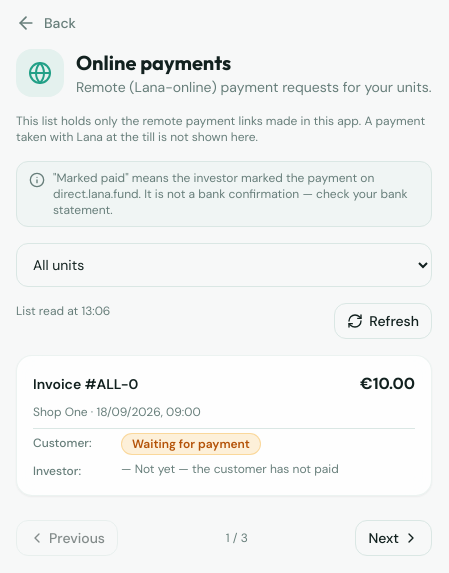
Test: changing the selection › changing the unit starts again at the first page
expect the text "Invoice #ALL-0" is shown: met, box [33,374,138,394]
Click the button "Next" at {"x": 394, "y": 538}, box [356,520,432,556]
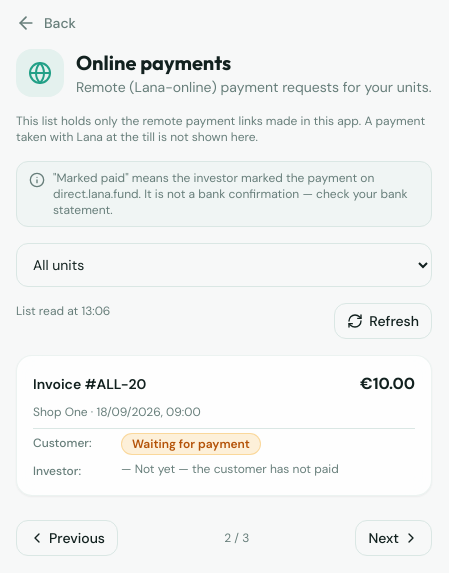
expect the text "Invoice #ALL-20" is shown: met, box [33,374,146,394]
Select "Shop Two" in the dropdown at {"x": 224, "y": 265}, box [16,243,432,287]
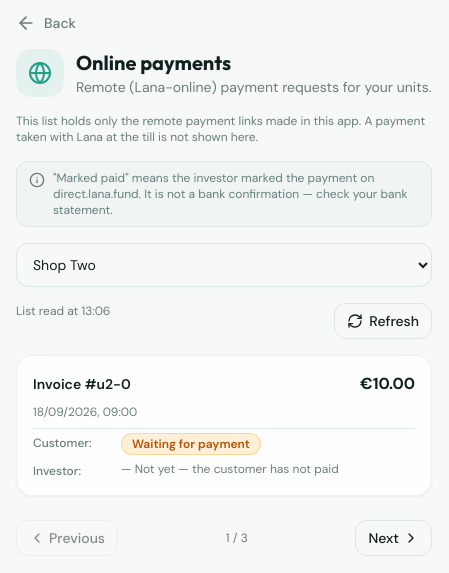
expect the text "Invoice #u2-0" is shown: met, box [33,374,131,394]
expect the text "1 / 3" is shown: met, box [226,530,248,546]
